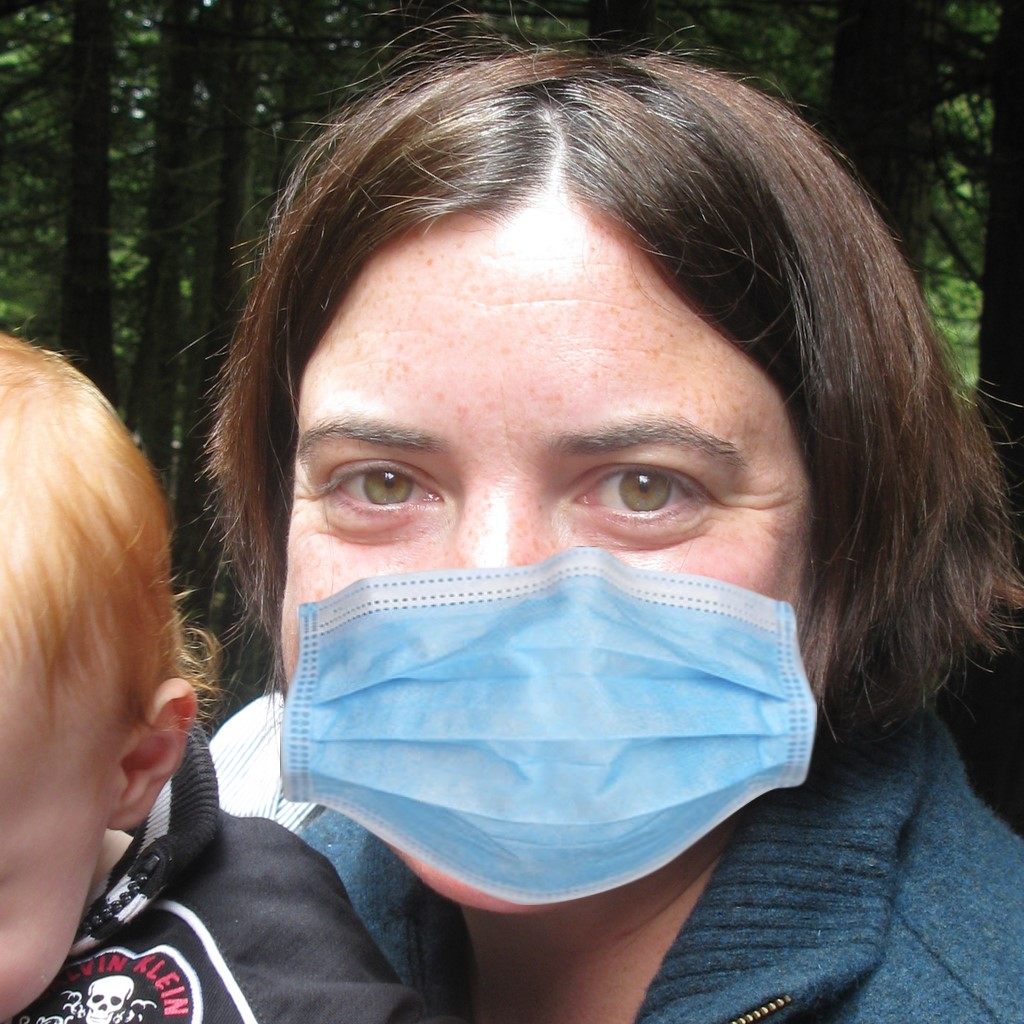con_mascara: (268, 140, 803, 904)
